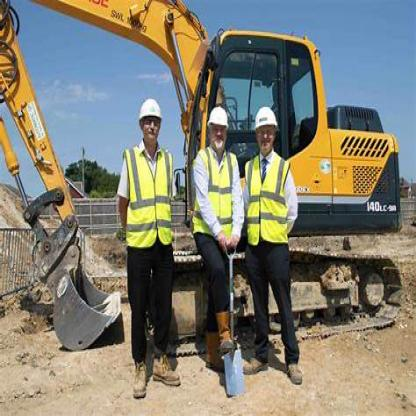person: (108, 85, 190, 399), (236, 95, 313, 397), (186, 85, 238, 381)
